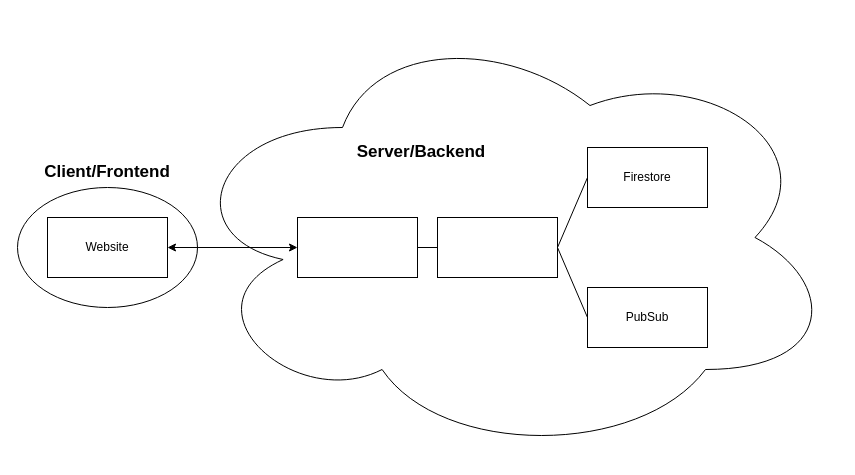
Some shapes in this 855 by 475 pixel diagram are drawn without their labels. Each missing label, with the box of its shape:
APIController: (436, 216, 558, 278)
Security: (296, 216, 418, 278)
